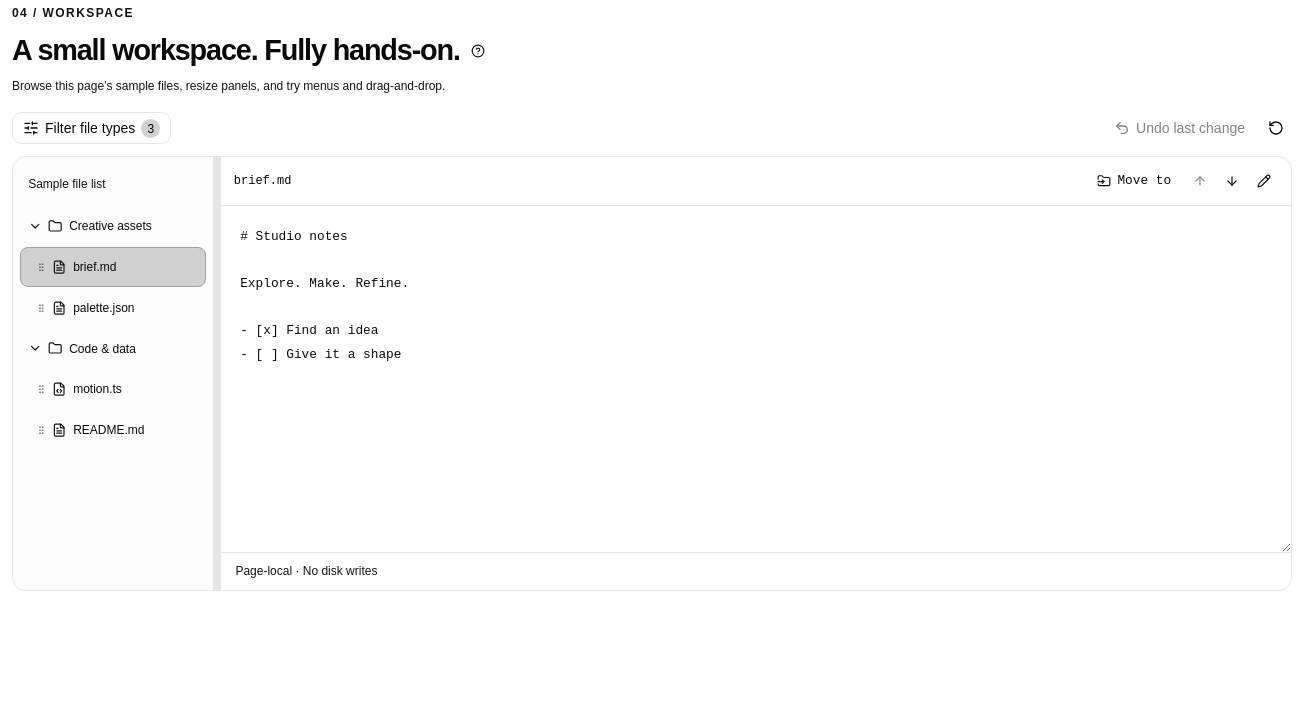
Test: moves the selected file between folders using only the keyboard and preserves its edits and undo
Step 1. Replace the text in the text box named "Sample file contents" with "Keep this draft" → (756, 379), box [221,206,1291,552]
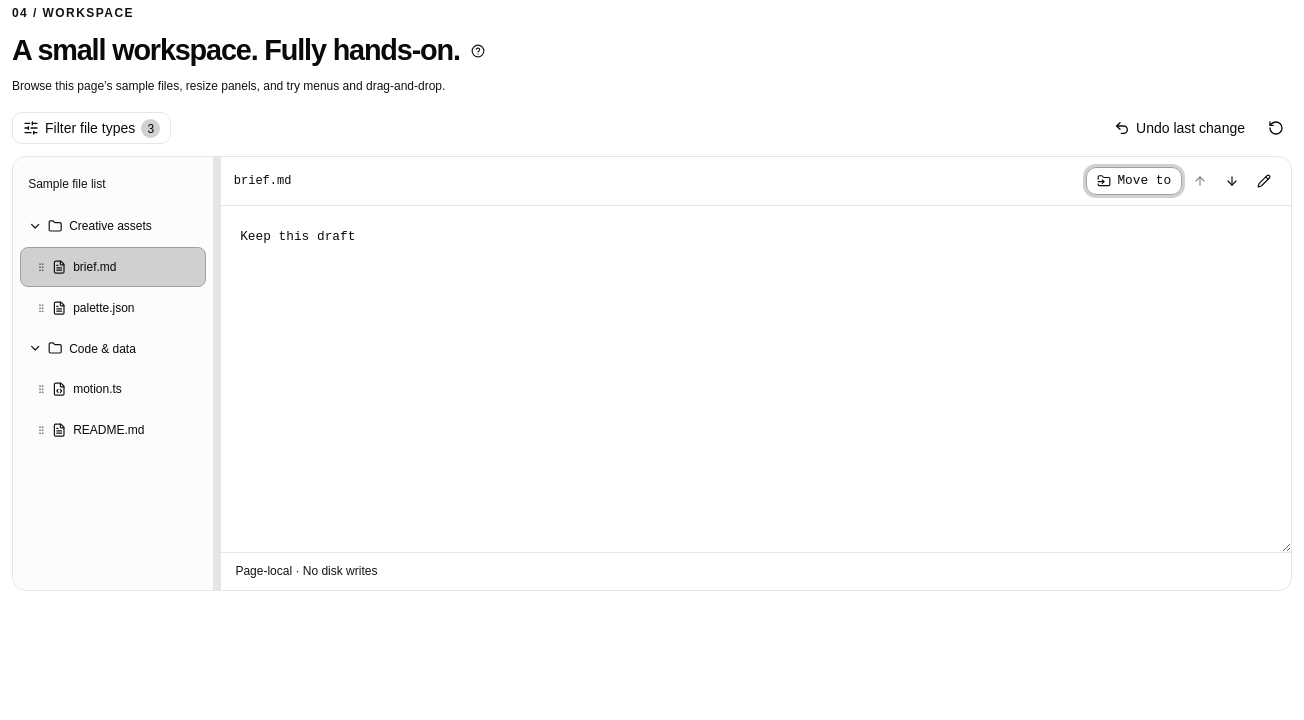
Step 2. Press Enter
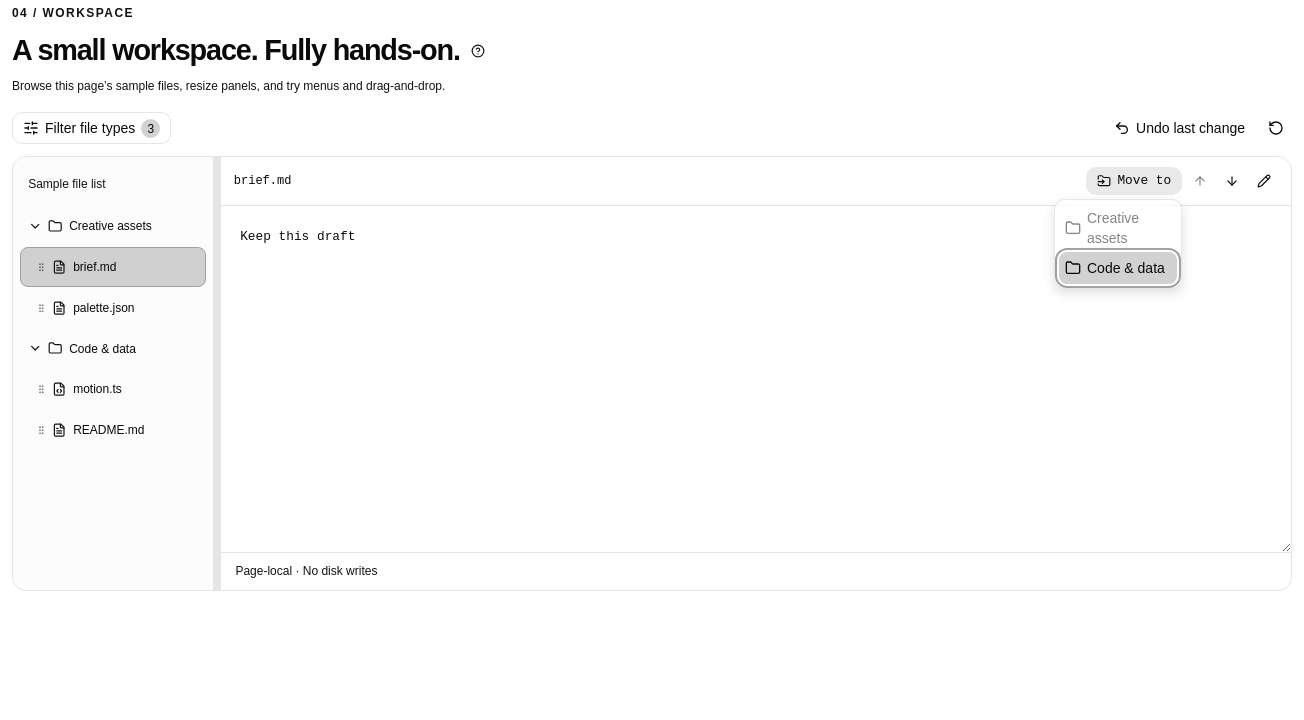
Expected: the menu item "Code & data" is shown, [1059,252,1177,284]
Step 3. Press Enter
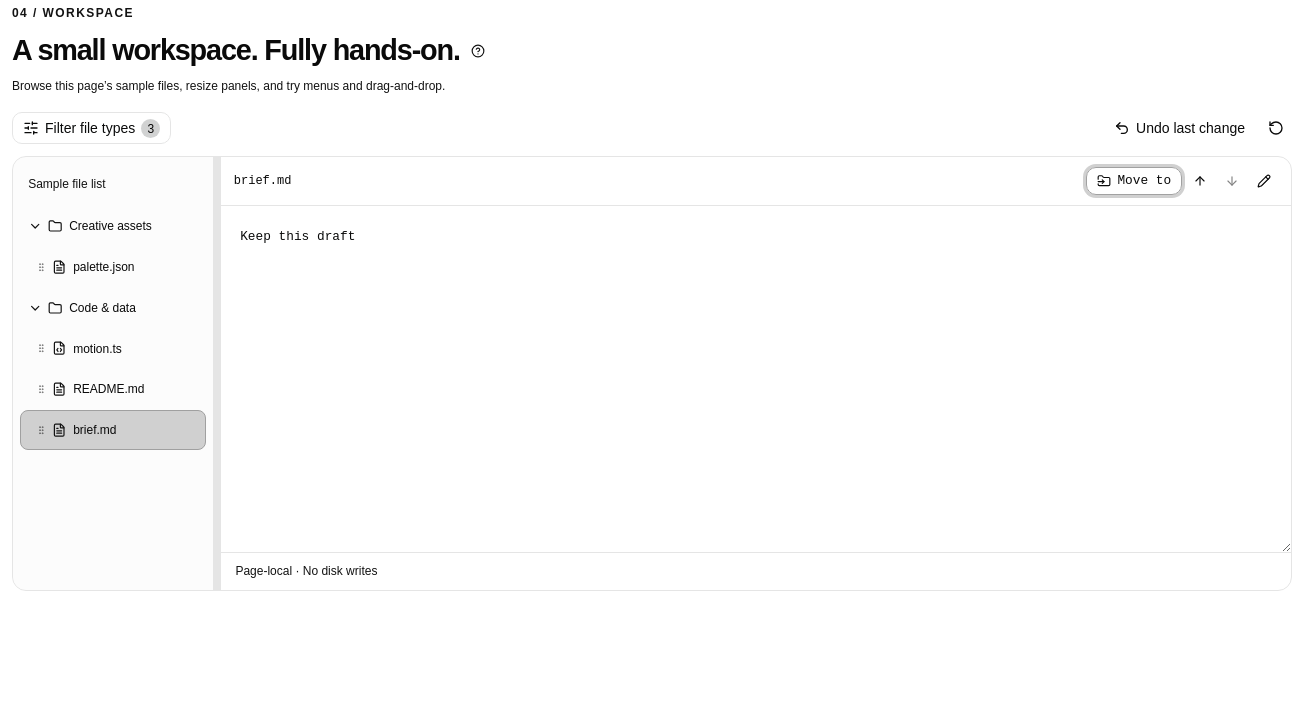
Expected: the button named "Move file up" is enabled, [1186,167,1214,195]
Expected: the button named "Move file down" is disabled, [1218,167,1246,195]
Step 4. Click the button "Undo last change" → (1180, 128), box [1103,112,1256,144]
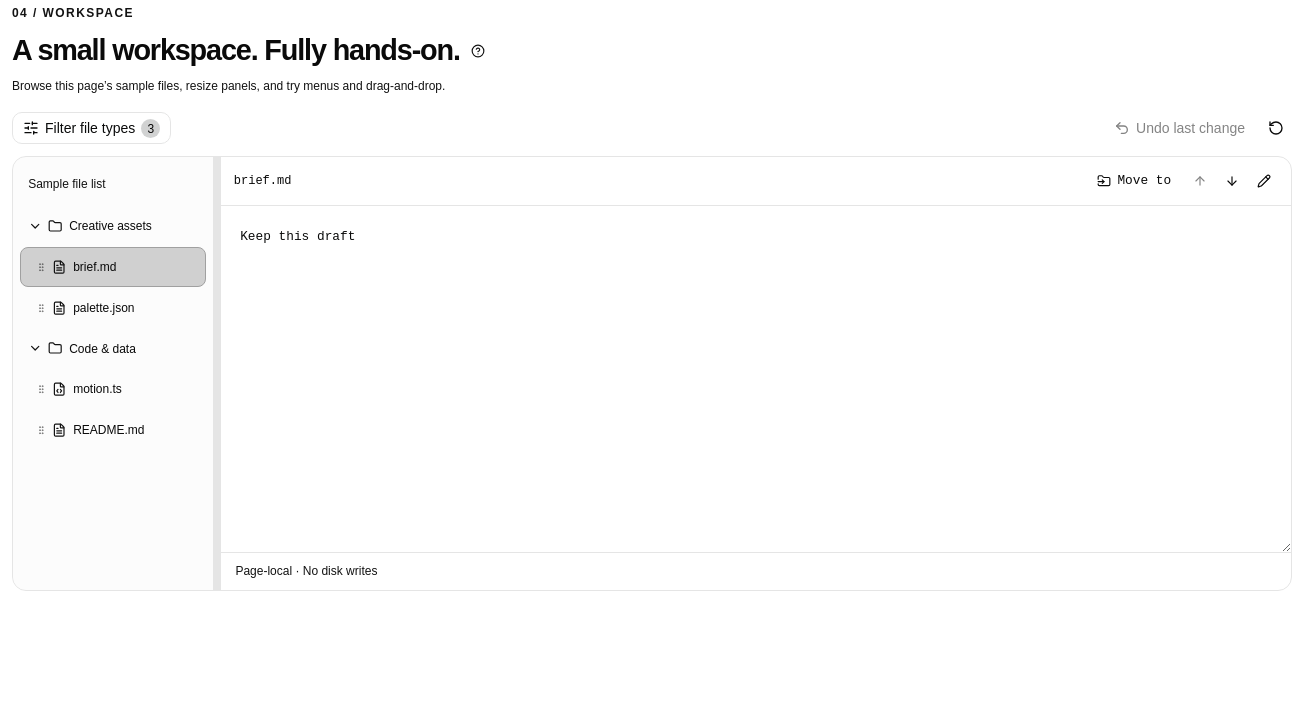
Expected: the button named "Move file up" is disabled, [1186,167,1214,195]
Expected: the button named "Move file down" is enabled, [1218,167,1246,195]
